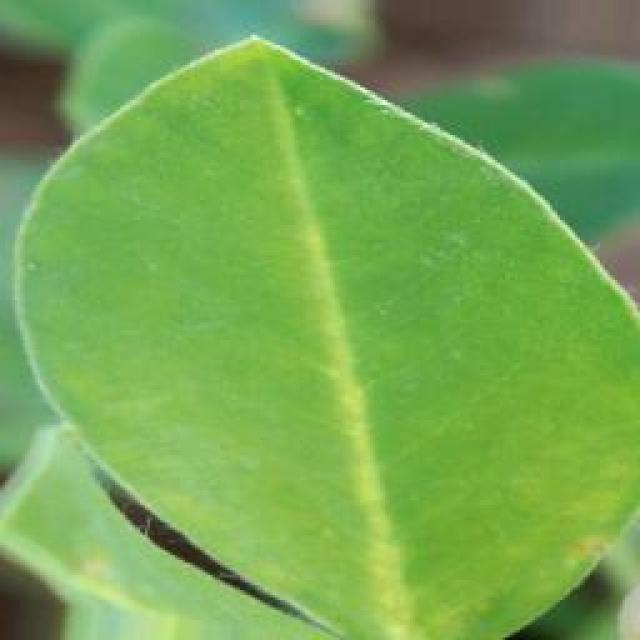Yellow_and_black_sigatoka: (9, 27, 640, 614)
